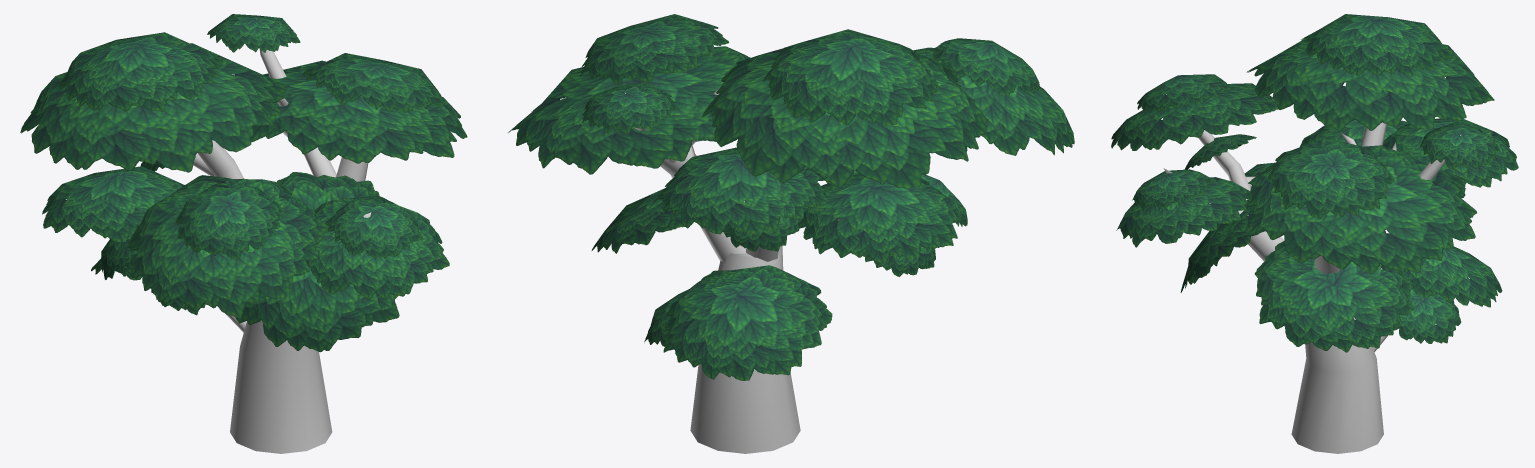
File: Asset_Tree_01.fbx
3 views of the same model, side by side, from view 1: azimuth 30°, elevation 25°; view 2: azimuth 150°, elevation 25°; view 3: azimuth 270°, elevation 25° (orthographic). The views are drawn at different scales.
Parts seen in each view (by area): view 1: Asset_Tree_01; view 2: Asset_Tree_01; view 3: Asset_Tree_01.
Part boxes in pixels (box(x1,y1,x2,y2)): Asset_Tree_01: box(20, 14, 467, 453); Asset_Tree_01: box(508, 14, 1074, 453); Asset_Tree_01: box(1111, 14, 1518, 453).
Bounding box in the file's own units: 3136 × 2875 × 2969.
